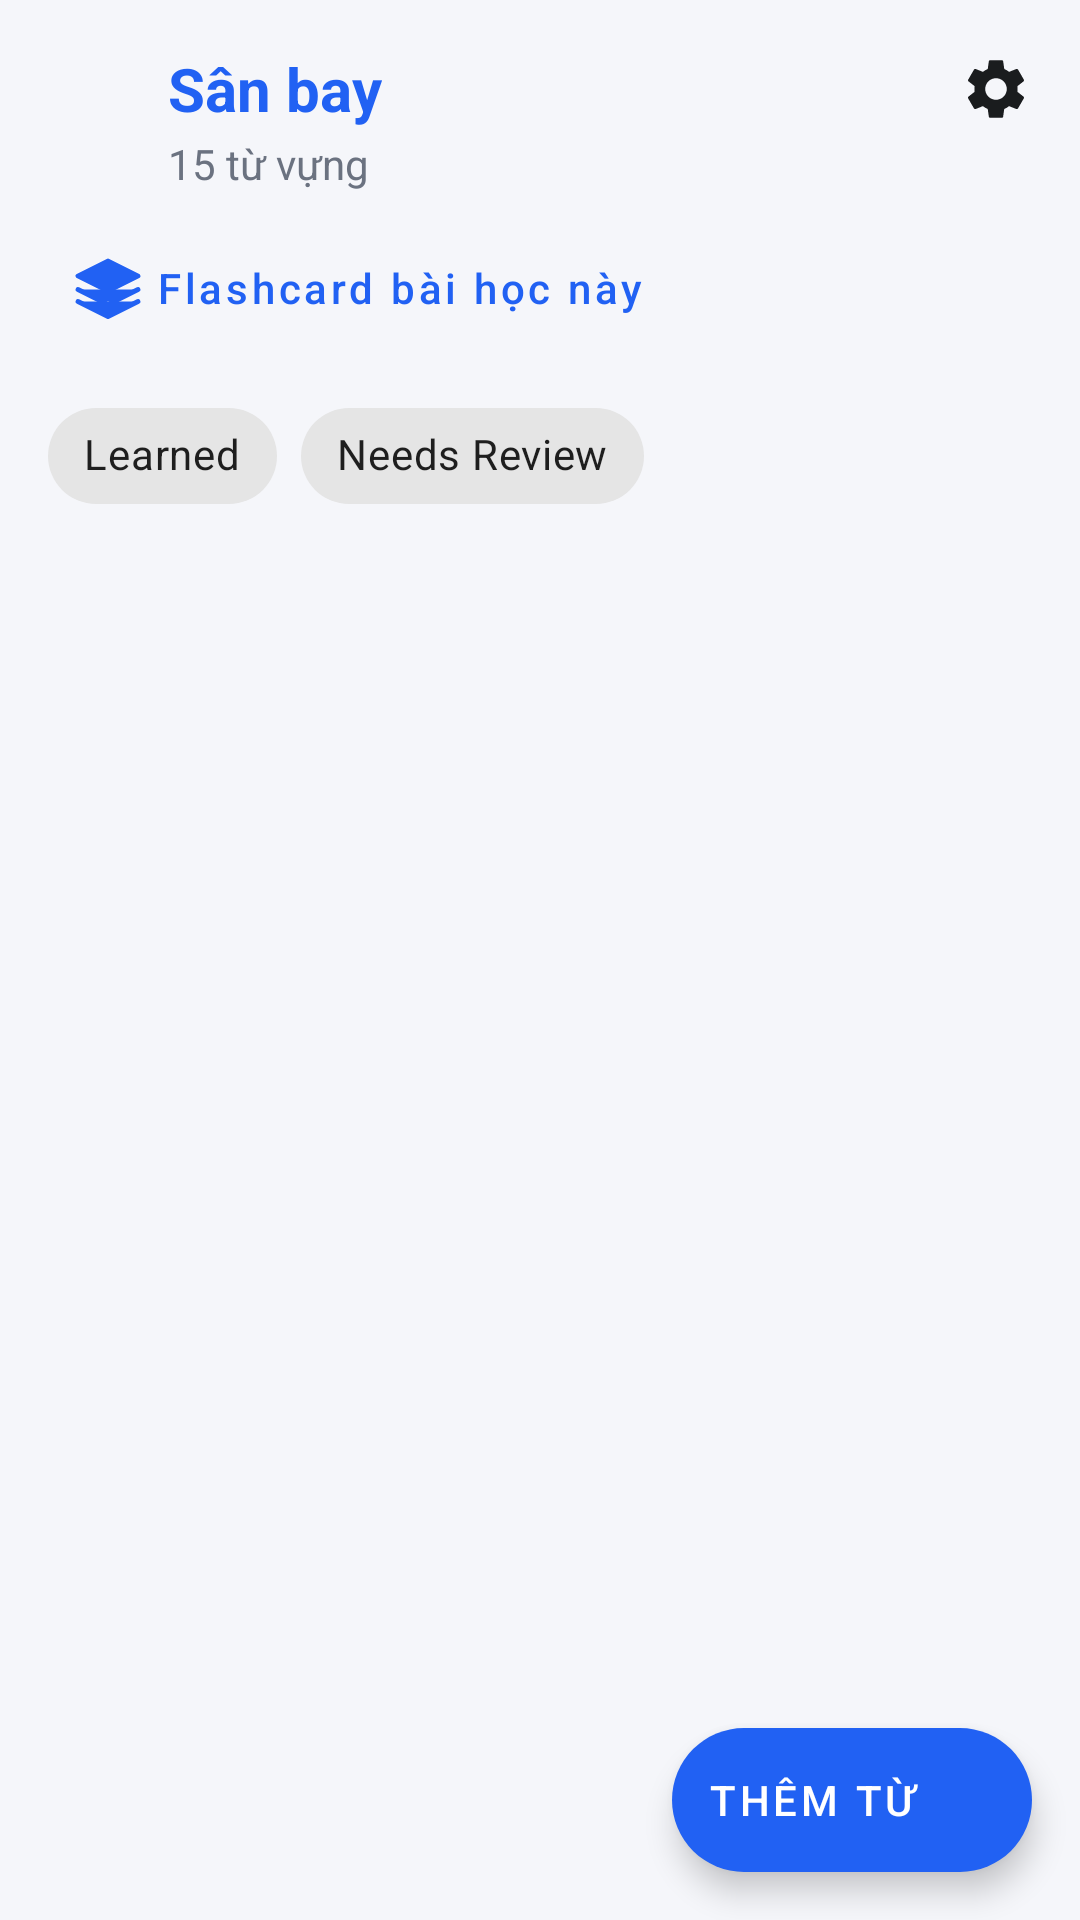

Where icons sit on this 1080x1920 app screen, as Rect(x1, y1, x2, y2):
settings: Rect(968, 60, 1024, 118)
